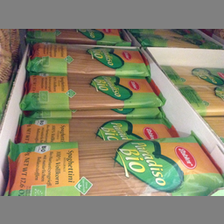pasta: (7, 136, 222, 195), (21, 70, 159, 108), (24, 37, 149, 76), (14, 114, 177, 138)
